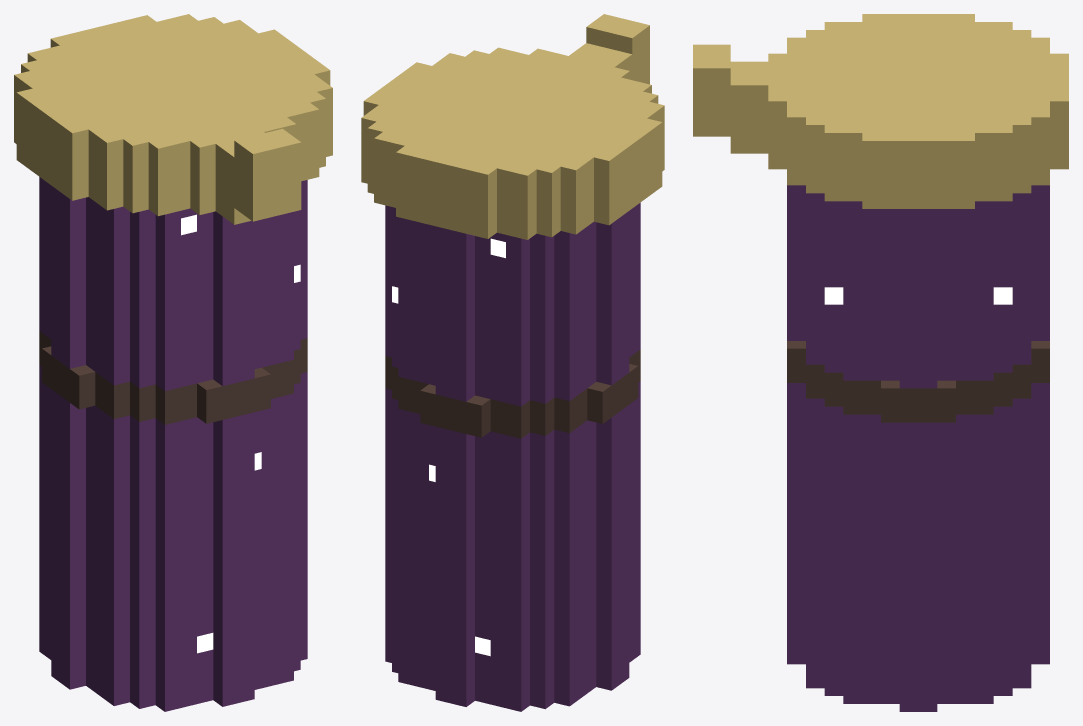
Rendered from mystic_epic_boot_shin_L.glb.
3 views of the same model, side by side, from view 1: azimuth 30°, elevation 25°; view 2: azimuth 150°, elevation 25°; view 3: azimuth 270°, elevation 25° (orthographic). The views are drawn at different scales.
Visible parts, largest first — view 1: mystic_epic_boot_shin_L; view 2: mystic_epic_boot_shin_L; view 3: mystic_epic_boot_shin_L.
Boxes of the visible parts, x1,y1,x2,y2 form: mystic_epic_boot_shin_L: (14,14,332,711); mystic_epic_boot_shin_L: (361,14,664,711); mystic_epic_boot_shin_L: (693,14,1068,711).
Bounding box in the file's own units: 0.192 × 0.42 × 0.24.
